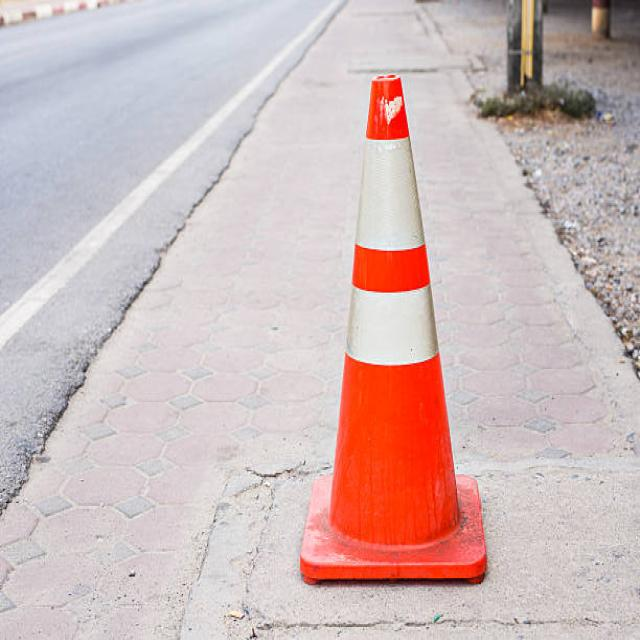Traffic Cone: (262, 27, 530, 631)
